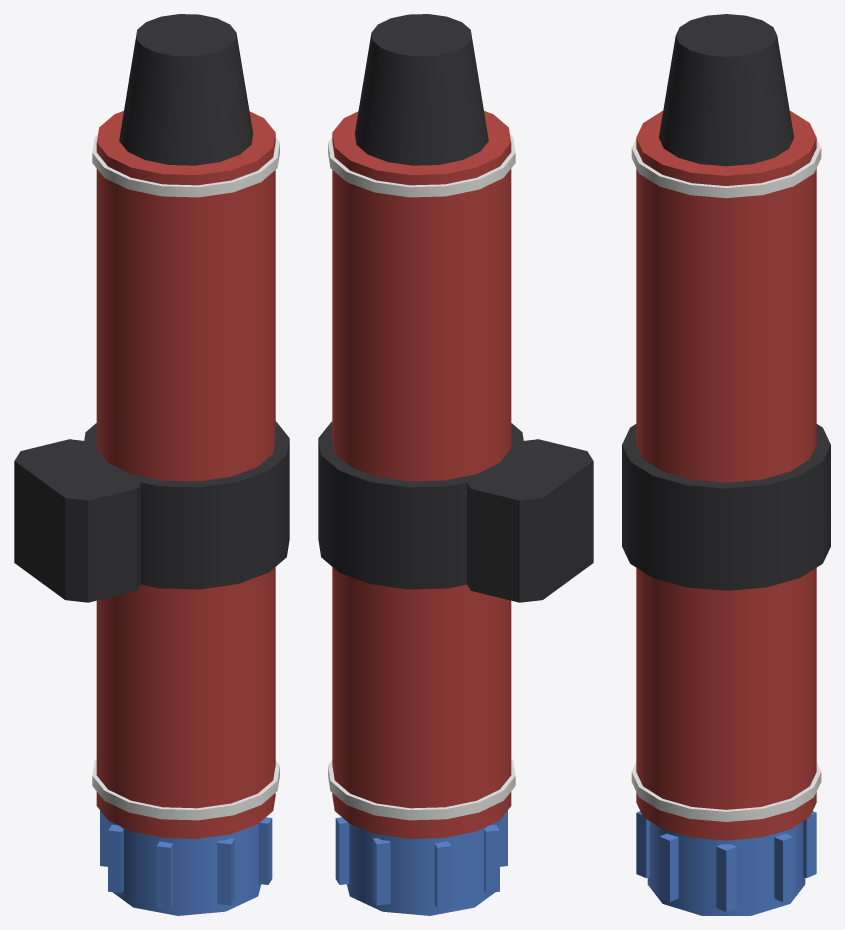
The model's file is linear.glb.
The picture shows the model from 3 angles, left to right: view 1: azimuth 30°, elevation 25°; view 2: azimuth 150°, elevation 25°; view 3: azimuth 270°, elevation 25°; orthographic projection.
Parts seen in each view (by area): view 1: lod0; view 2: lod0; view 3: lod0.
Boxes of the visible parts, x1,y1,x2,y2 form: lod0: [14, 14, 289, 915]; lod0: [318, 14, 593, 915]; lod0: [622, 14, 830, 915].
Size of what is drawn, in the model's own units: 0.0485 by 0.166 by 0.037.
